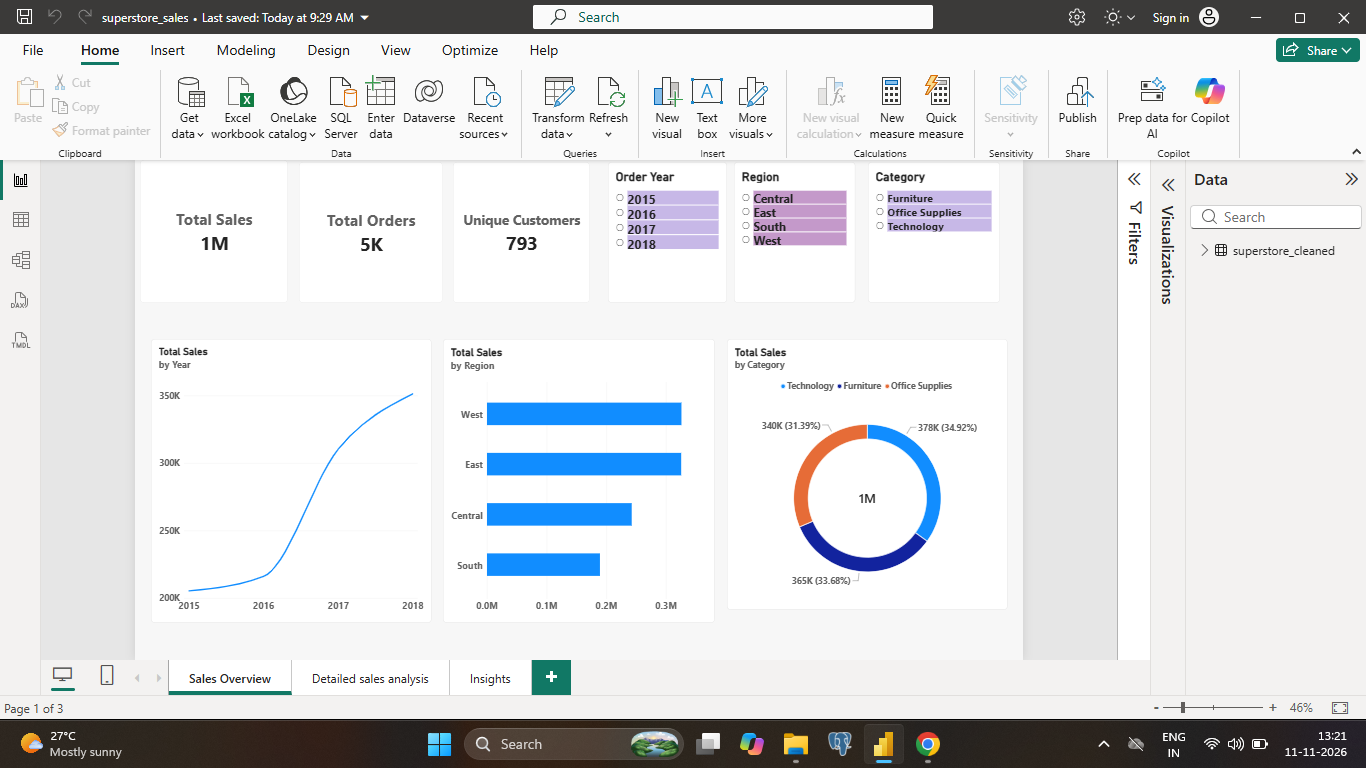

This screenshot's page, from the dashboard's own definition file:
{"tool":"powerbi","page":{"name":"Sales Overview","canvas":[1920,1080],"ordinal":0},"visuals":[{"type":"cardVisual","fields":{"Data":["superstore_cleaned.Total Sales"]},"box":[10.6,0,319.1,308.5],"z":0},{"type":"cardVisual","fields":{"Data":["superstore_cleaned.Total Orders"]},"box":[355.3,4.3,310.6,304.3],"z":1},{"type":"cardVisual","fields":{"Data":["superstore_cleaned.Unique Customers"]},"box":[687.2,4.3,295.7,304.3],"z":2},{"type":"lineChart","fields":{"Category":["superstore_cleaned.Month year.Variation.Date Hierarchy.Year","superstore_cleaned.Month year.Variation.Date Hierarchy.Month"],"Y":["superstore_cleaned.Total Sales"]},"box":[34,387.2,606.4,612.8],"z":3},{"type":"clusteredBarChart","fields":{"Category":["superstore_cleaned.Region"],"Y":["superstore_cleaned.Total Sales"]},"box":[666,387.2,587.2,612.8],"z":4},{"type":"donutChart","fields":{"Category":["superstore_cleaned.Category"],"Y":["superstore_cleaned.Total Sales"]},"box":[1278.7,387.2,606.4,585.1],"z":5},{"type":"listSlicer","fields":{"Values":["superstore_cleaned.Order Year"]},"box":[1021.3,4.3,257.4,304.3],"z":6},{"type":"listSlicer","fields":{"Values":["superstore_cleaned.Region"]},"box":[1293.6,4.3,261.7,304.3],"z":7},{"type":"listSlicer","fields":{"Values":["superstore_cleaned.Category"]},"box":[1583,4.3,285.1,304.3],"z":8}]}

Visuals, with their boxes on the page's 1920x1080 design canvas (x1, y1, x2, y2). These are canvas units, not pixel positions in the 1366x768 screenshot, which may show the page scaled, cropped or inside an application window:
cardVisual - superstore_cleaned.Total Sales: (11, 0, 330, 308)
cardVisual - superstore_cleaned.Total Orders: (355, 4, 666, 309)
cardVisual - superstore_cleaned.Unique Customers: (687, 4, 983, 309)
lineChart - superstore_cleaned.Month year.Variation.Date Hierarchy.Year x superstore_cleaned.Month year.Variation.Date Hierarchy.Month: (34, 387, 640, 1000)
clusteredBarChart - superstore_cleaned.Region x superstore_cleaned.Total Sales: (666, 387, 1253, 1000)
donutChart - superstore_cleaned.Category x superstore_cleaned.Total Sales: (1279, 387, 1885, 972)
listSlicer - superstore_cleaned.Order Year: (1021, 4, 1279, 309)
listSlicer - superstore_cleaned.Region: (1294, 4, 1555, 309)
listSlicer - superstore_cleaned.Category: (1583, 4, 1868, 309)
